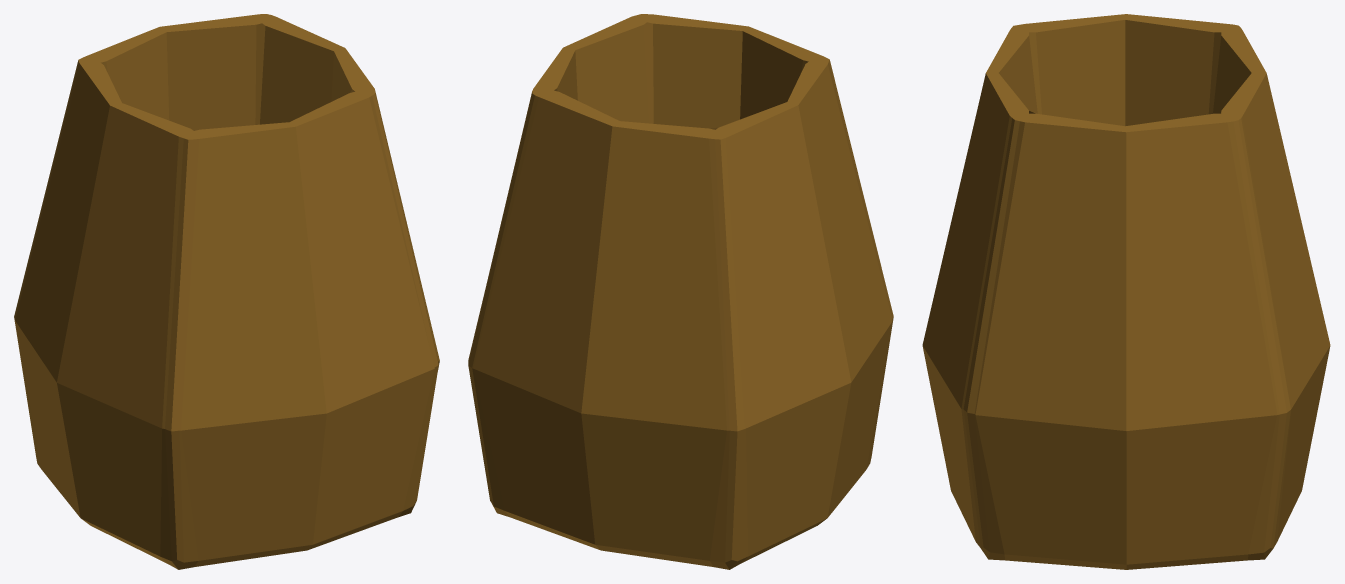
Rendered from Pot.glb.
3 views of the same model, side by side, from view 1: azimuth 30°, elevation 25°; view 2: azimuth 150°, elevation 25°; view 3: azimuth 270°, elevation 25° (orthographic). The views are drawn at different scales.
Visible parts, largest first — view 1: Cube; view 2: Cube; view 3: Cube.
Boxes of the visible parts, bbox=[...] form: Cube: bbox=[14, 14, 439, 569]; Cube: bbox=[468, 14, 893, 569]; Cube: bbox=[922, 14, 1330, 569].
Size of the model in its own units: 0.2142 by 0.2491 by 0.2152.
